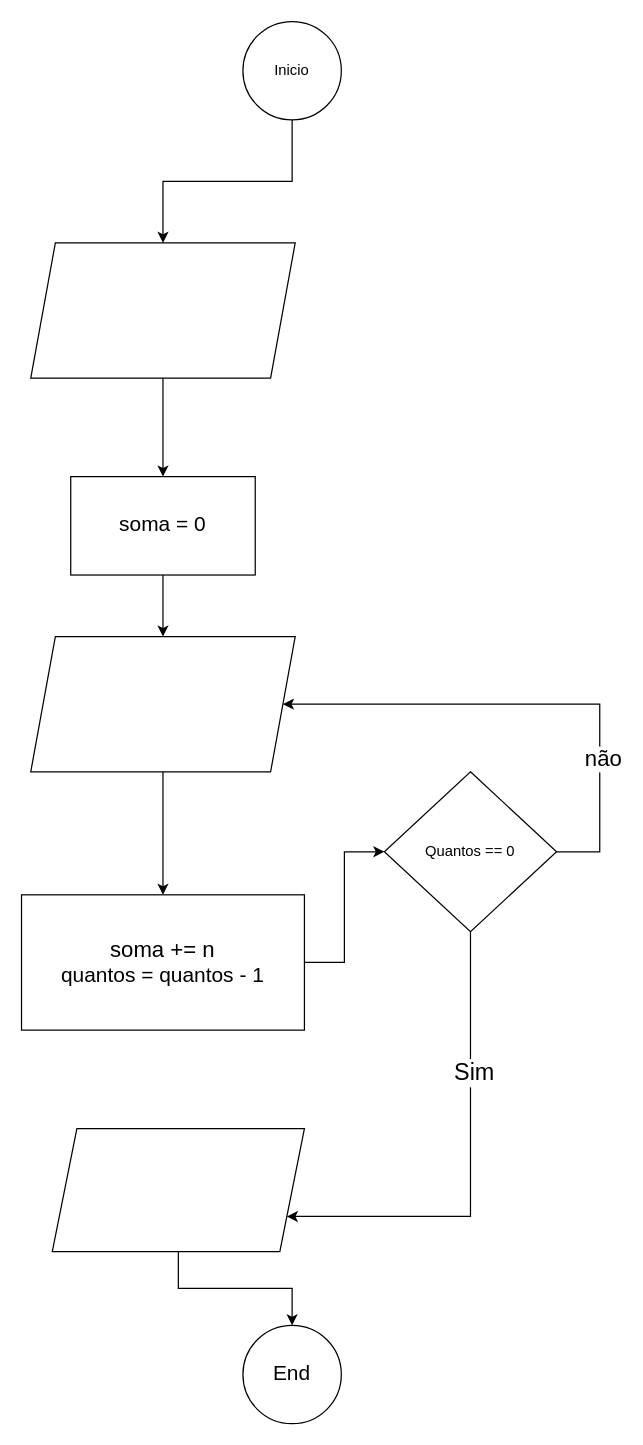
Image size: 643x1445. Some labels were removed from this diagram. The centre of each missing label's shape, as x and y in pixels:
Ler n: pixel 162 703
Ler quantos: pixel 162 310
mostrar soma: pixel 177 1189
